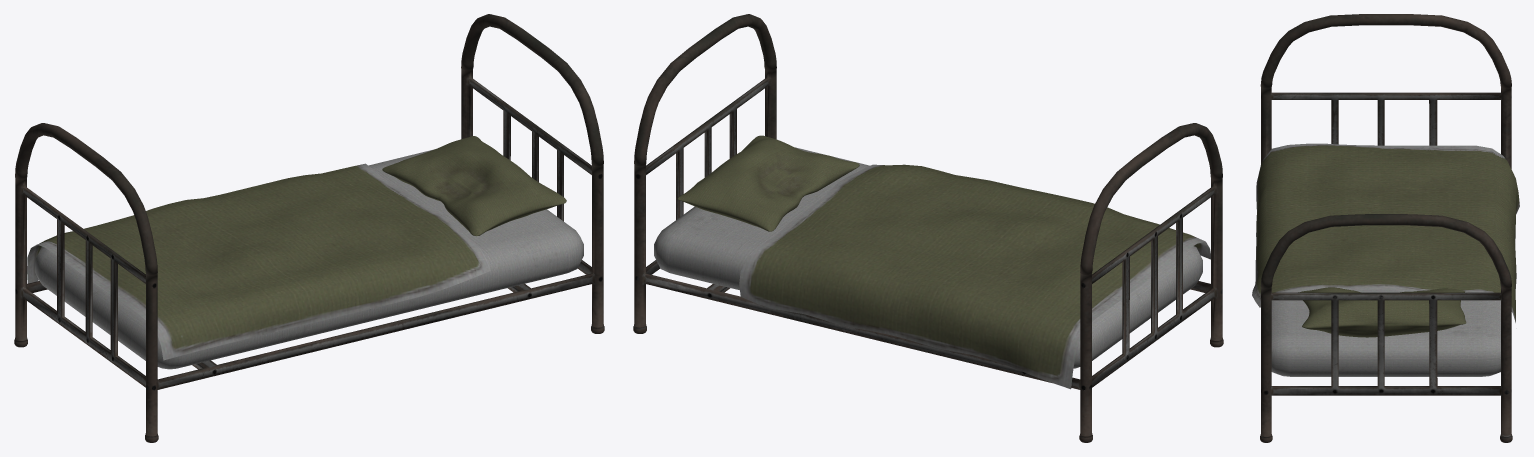
Rendered from Bed.glb.
3 renders of one model, left to right at view 1: azimuth 30°, elevation 25°; view 2: azimuth 150°, elevation 25°; view 3: azimuth 270°, elevation 25°, orthographic. The views are drawn at different scales.
Visible parts, largest first — view 1: unnamed; view 2: unnamed; view 3: unnamed.
Part boxes in pixels (x1,y1,x2,y2): unnamed: (14,14,604,442); unnamed: (633,14,1223,442); unnamed: (1252,14,1519,442).
Bounding box in the file's own units: 138 × 70.72 × 75.95.
1 material, 1 textured.
